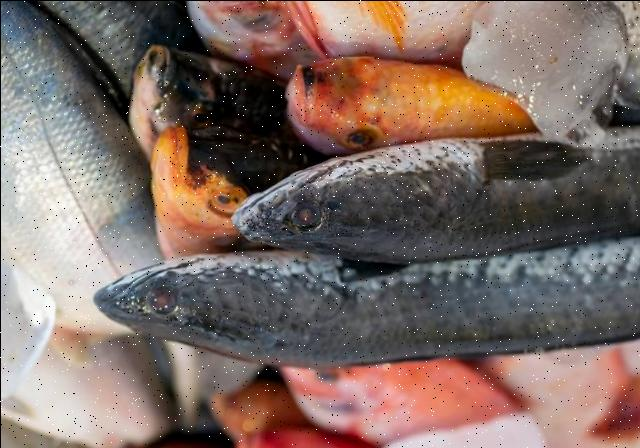Mulut: (62, 248, 202, 334), (210, 162, 322, 249), (267, 32, 329, 132), (128, 26, 196, 110), (148, 112, 204, 200)
Sirip Dada: (462, 114, 594, 200)
